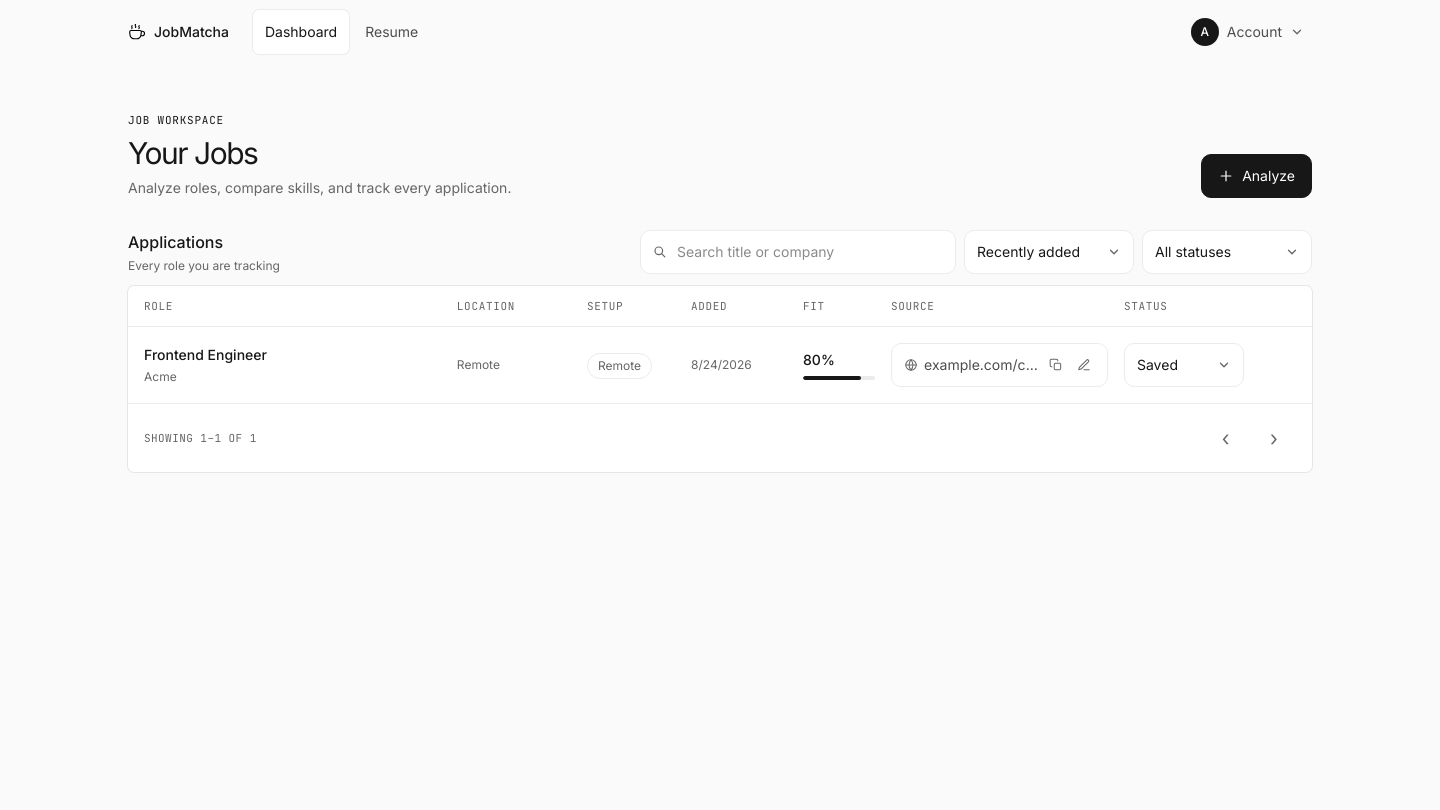
DashboardPage › says so in red when a change fails
Click the dropdown named "Status for".
click(1184, 365)  # box [1124,343,1244,387]
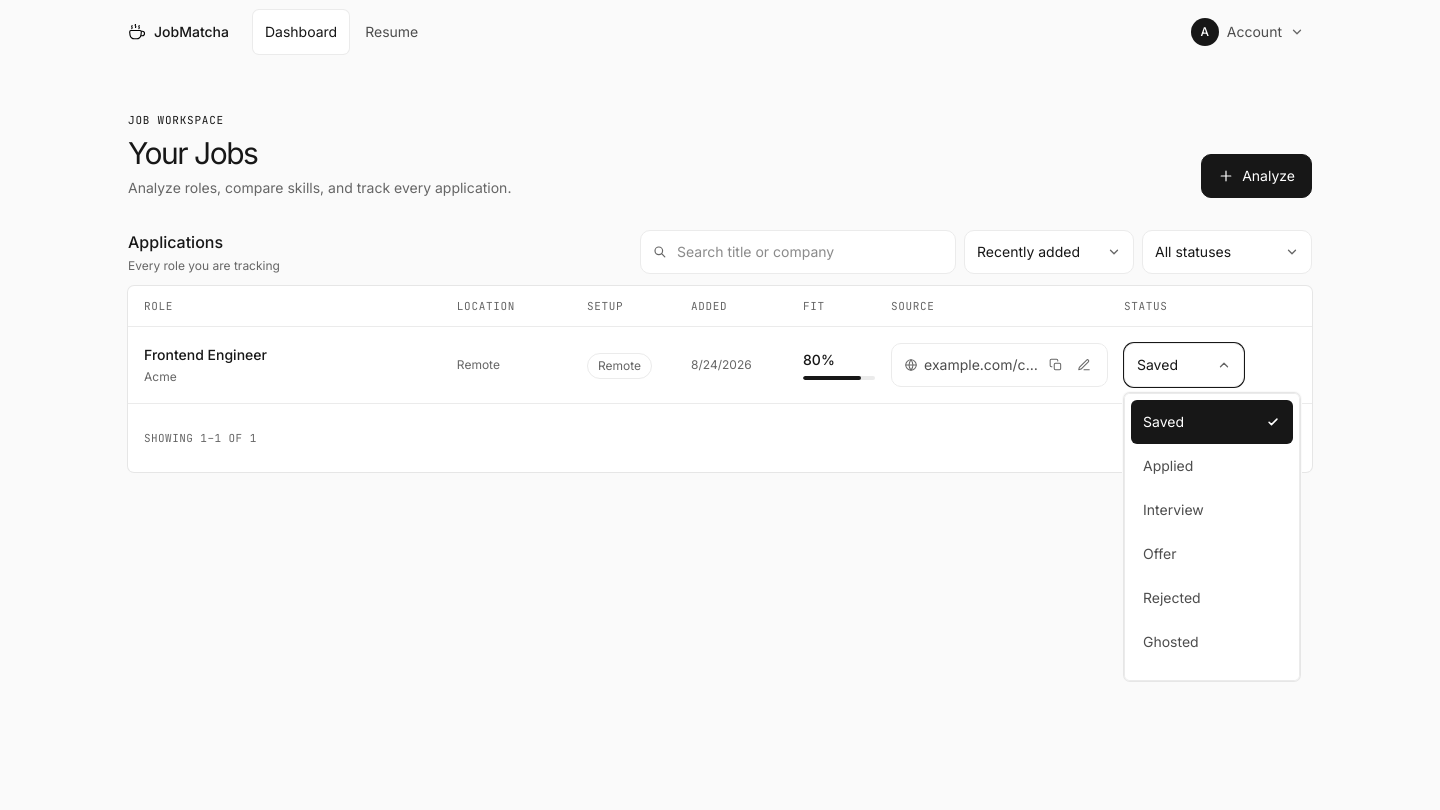
Click the option "Applied".
click(1212, 466)  # box [1131,444,1293,488]
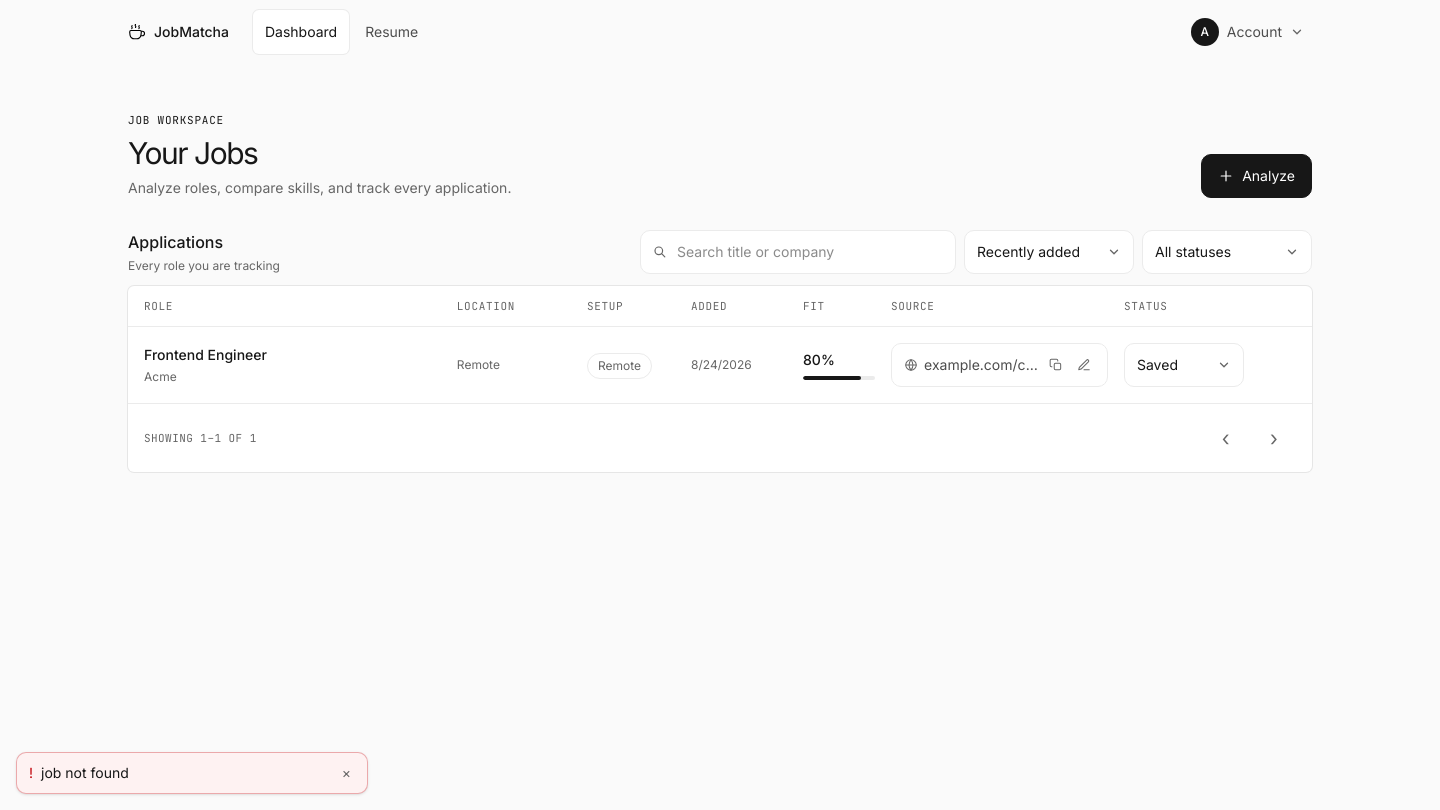
Expected: the message shows "job not found", [41,764,129,781]
